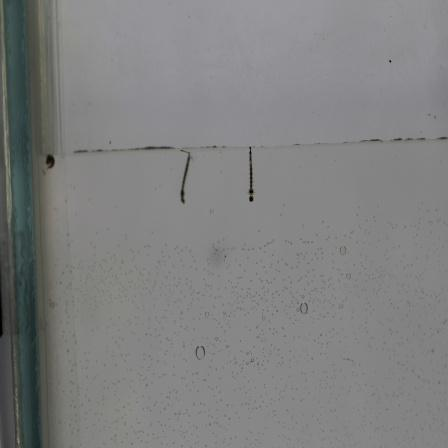Jentik-Nyamuk: (239, 145, 263, 210), (173, 153, 197, 207)
